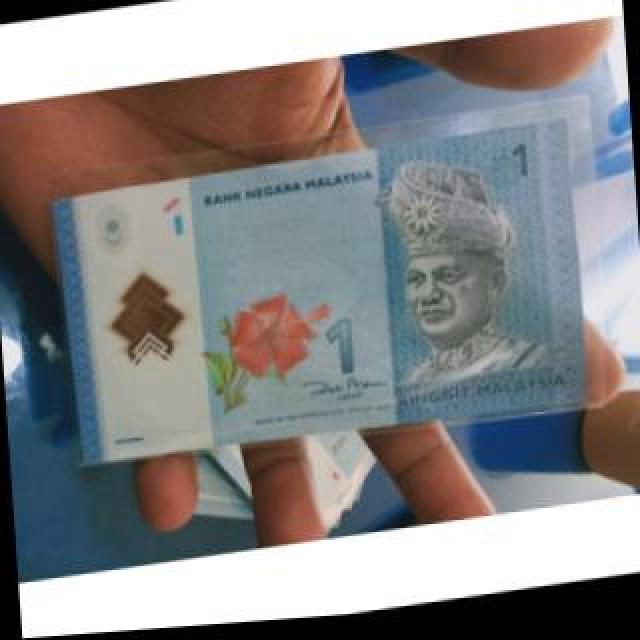1 Ringgit: (40, 110, 598, 490)
